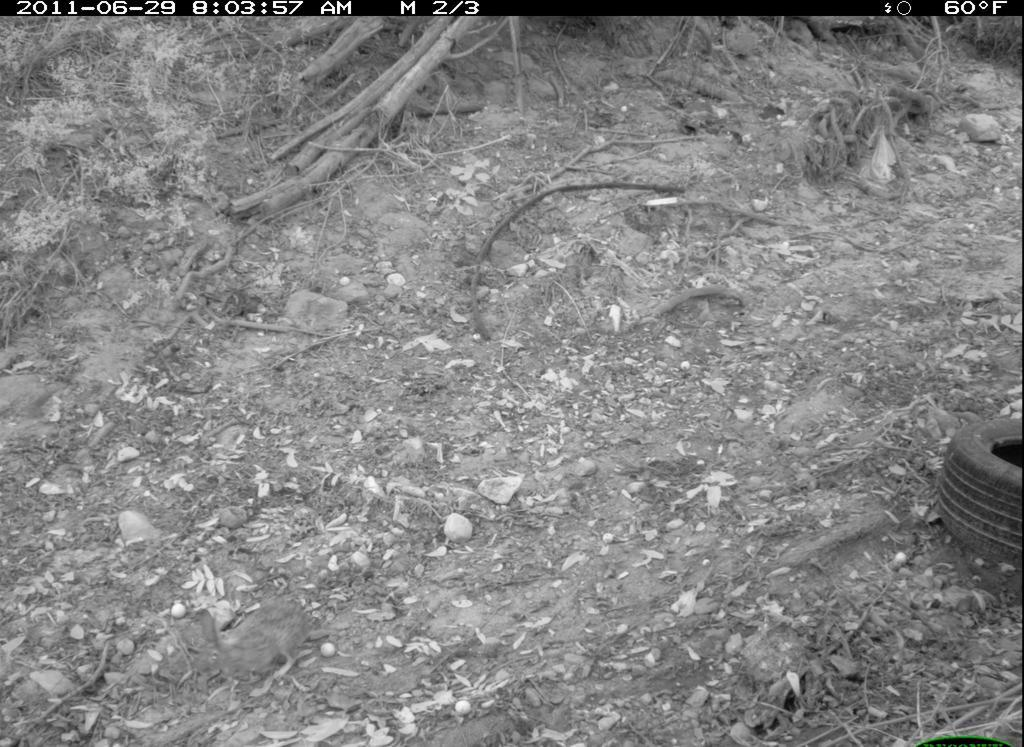rabbit: (183, 586, 317, 701)
